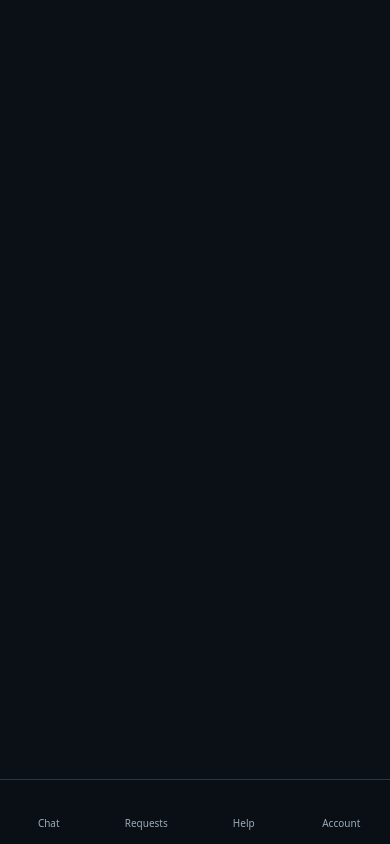
it: MobileClientAppShell › displays customer tickets when authenticated on Requests tab
What coordinates should you click on to do the following:
click the button "Requests"
I would click on:
 (146, 812)
Its box is [98,780,195,843].
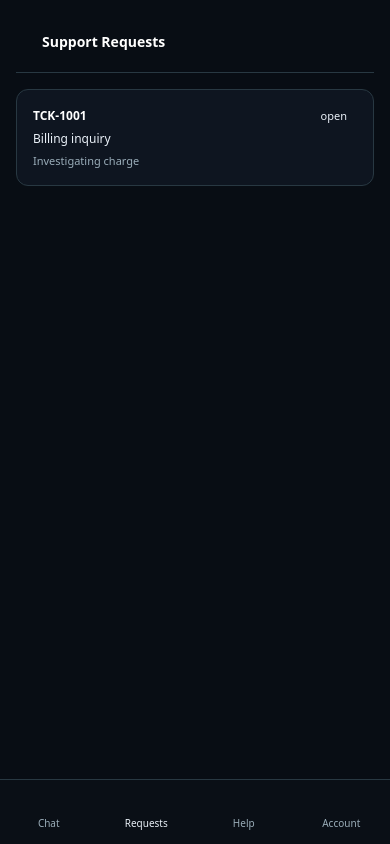
Expected: the text "TCK-1001" is shown, [33,108,87,124]
Expected: the text "Billing inquiry" is shown, [33,130,111,146]
